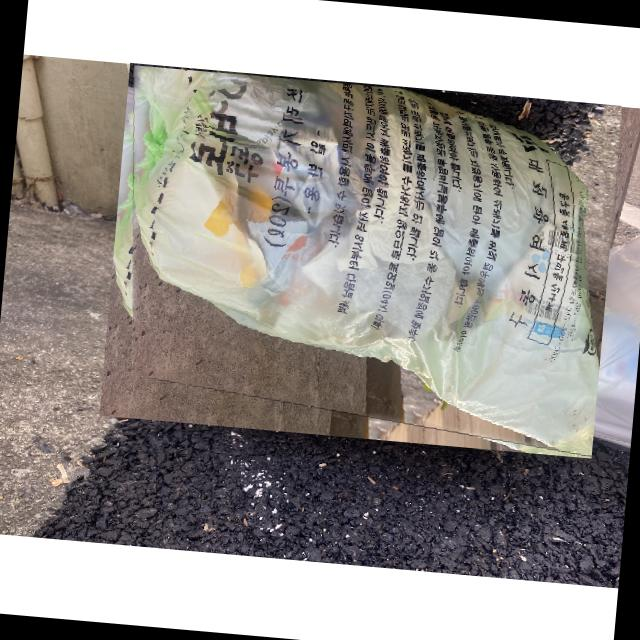general_trashbag: (144, 65, 609, 444)
other_trashbag: (112, 71, 586, 456)
